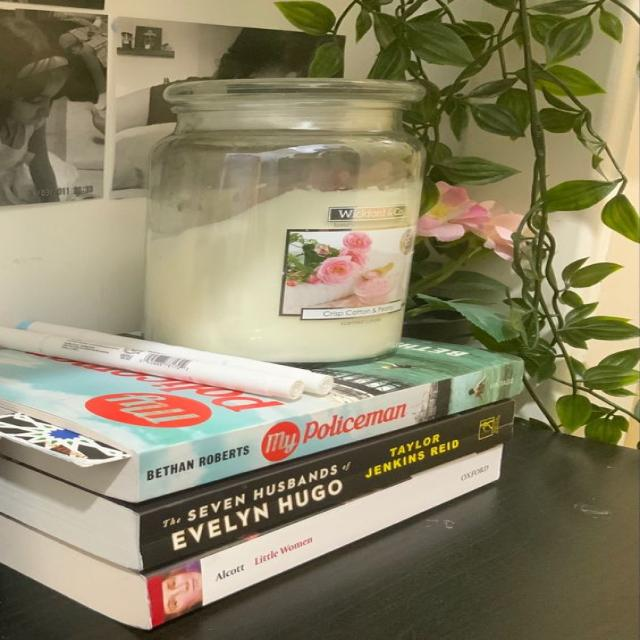book: (143, 446, 500, 628), (141, 400, 516, 570), (139, 360, 524, 500)
candle: (141, 76, 423, 363)
